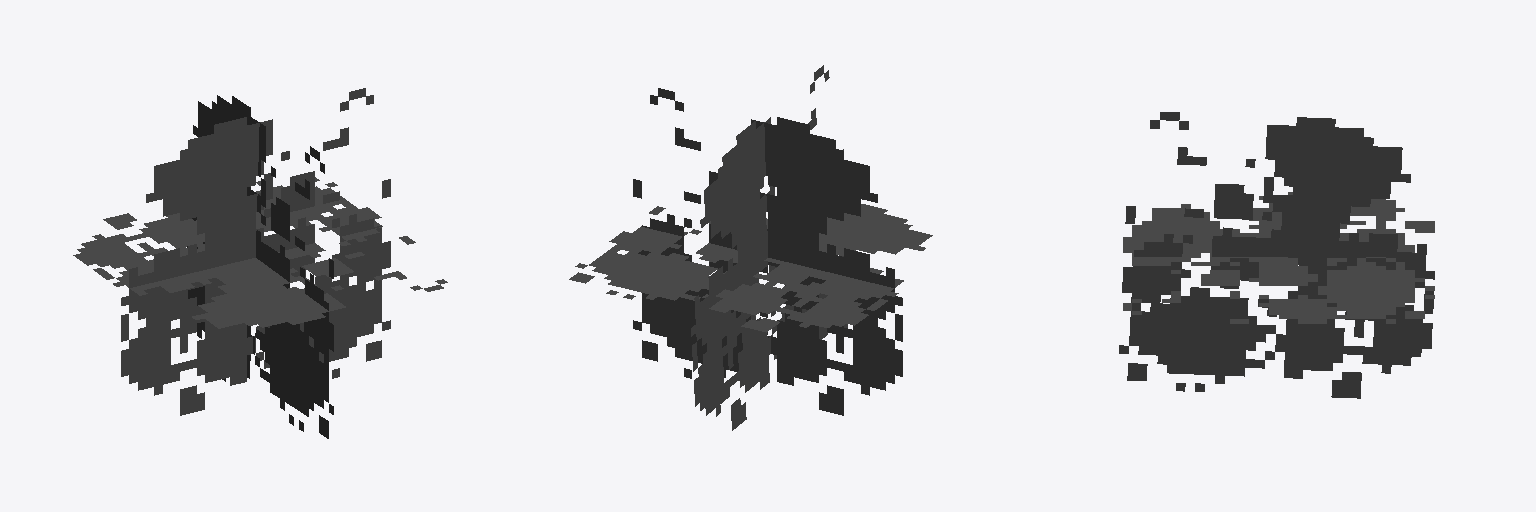
3 renders of one model, left to right at view 1: azimuth 30°, elevation 25°; view 2: azimuth 150°, elevation 25°; view 3: azimuth 270°, elevation 25°, orthographic.
Parts seen in each view (by area): view 1: Plane; view 2: Plane; view 3: Plane.
Part boxes in pixels (x1,y1,x2,y2): Plane: (73, 88, 447, 438); Plane: (569, 65, 932, 430); Plane: (1119, 112, 1434, 398).
Size of the model in its own units: 2 by 2.09 by 2.09.
1 materials, 1 textured.